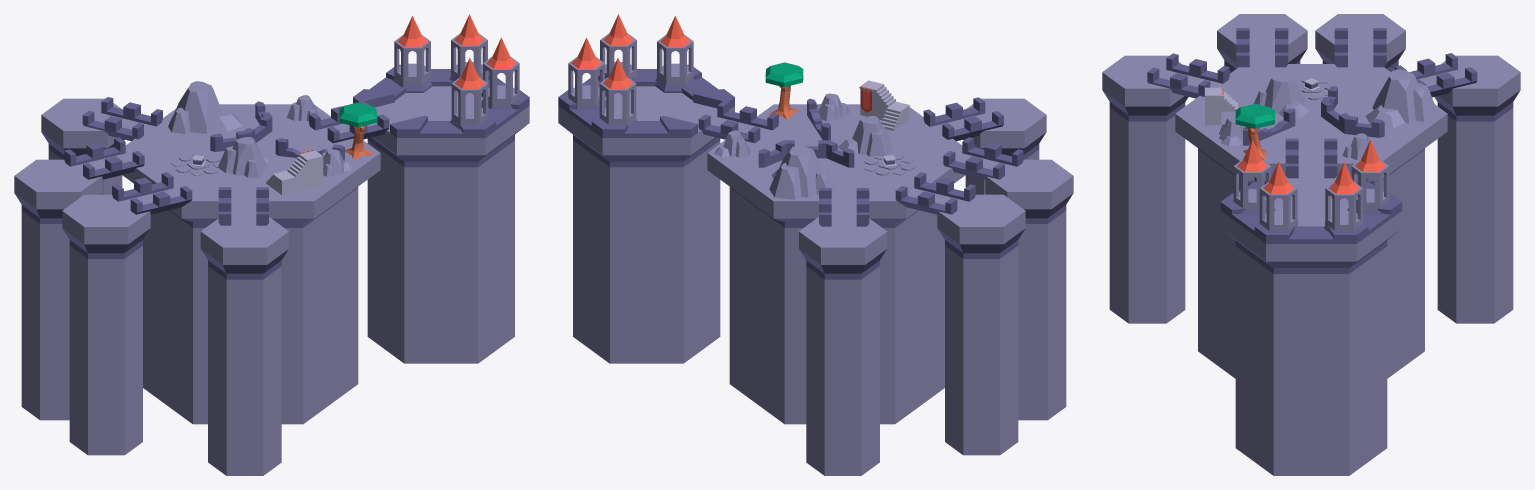
Rendered from rockprojectma.fbx.
3 views of the same model, side by side, from view 1: azimuth 30°, elevation 25°; view 2: azimuth 150°, elevation 25°; view 3: azimuth 270°, elevation 25° (orthographic). The views are drawn at different scales.
Visible parts, largest first — view 1: mergedBlocks; view 2: mergedBlocks; view 3: mergedBlocks.
Part boxes in pixels (left/top/right/bottom): mergedBlocks: left=14, top=14, right=529, bottom=475; mergedBlocks: left=558, top=14, right=1073, bottom=475; mergedBlocks: left=1102, top=14, right=1520, bottom=475.
Bounding box in the file's own units: 83 × 52 × 63.86.
